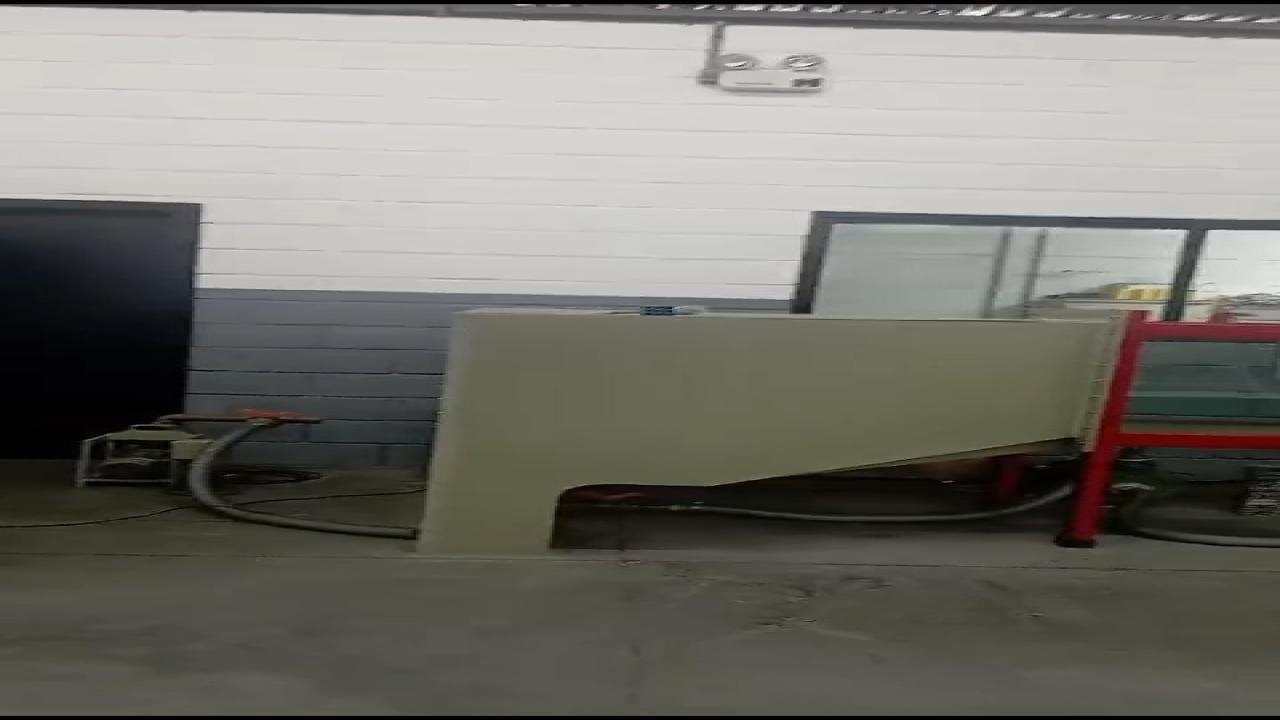Cube: (640, 306, 676, 316)
